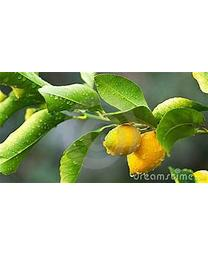lemon: (129, 132, 167, 172), (105, 123, 140, 155)
